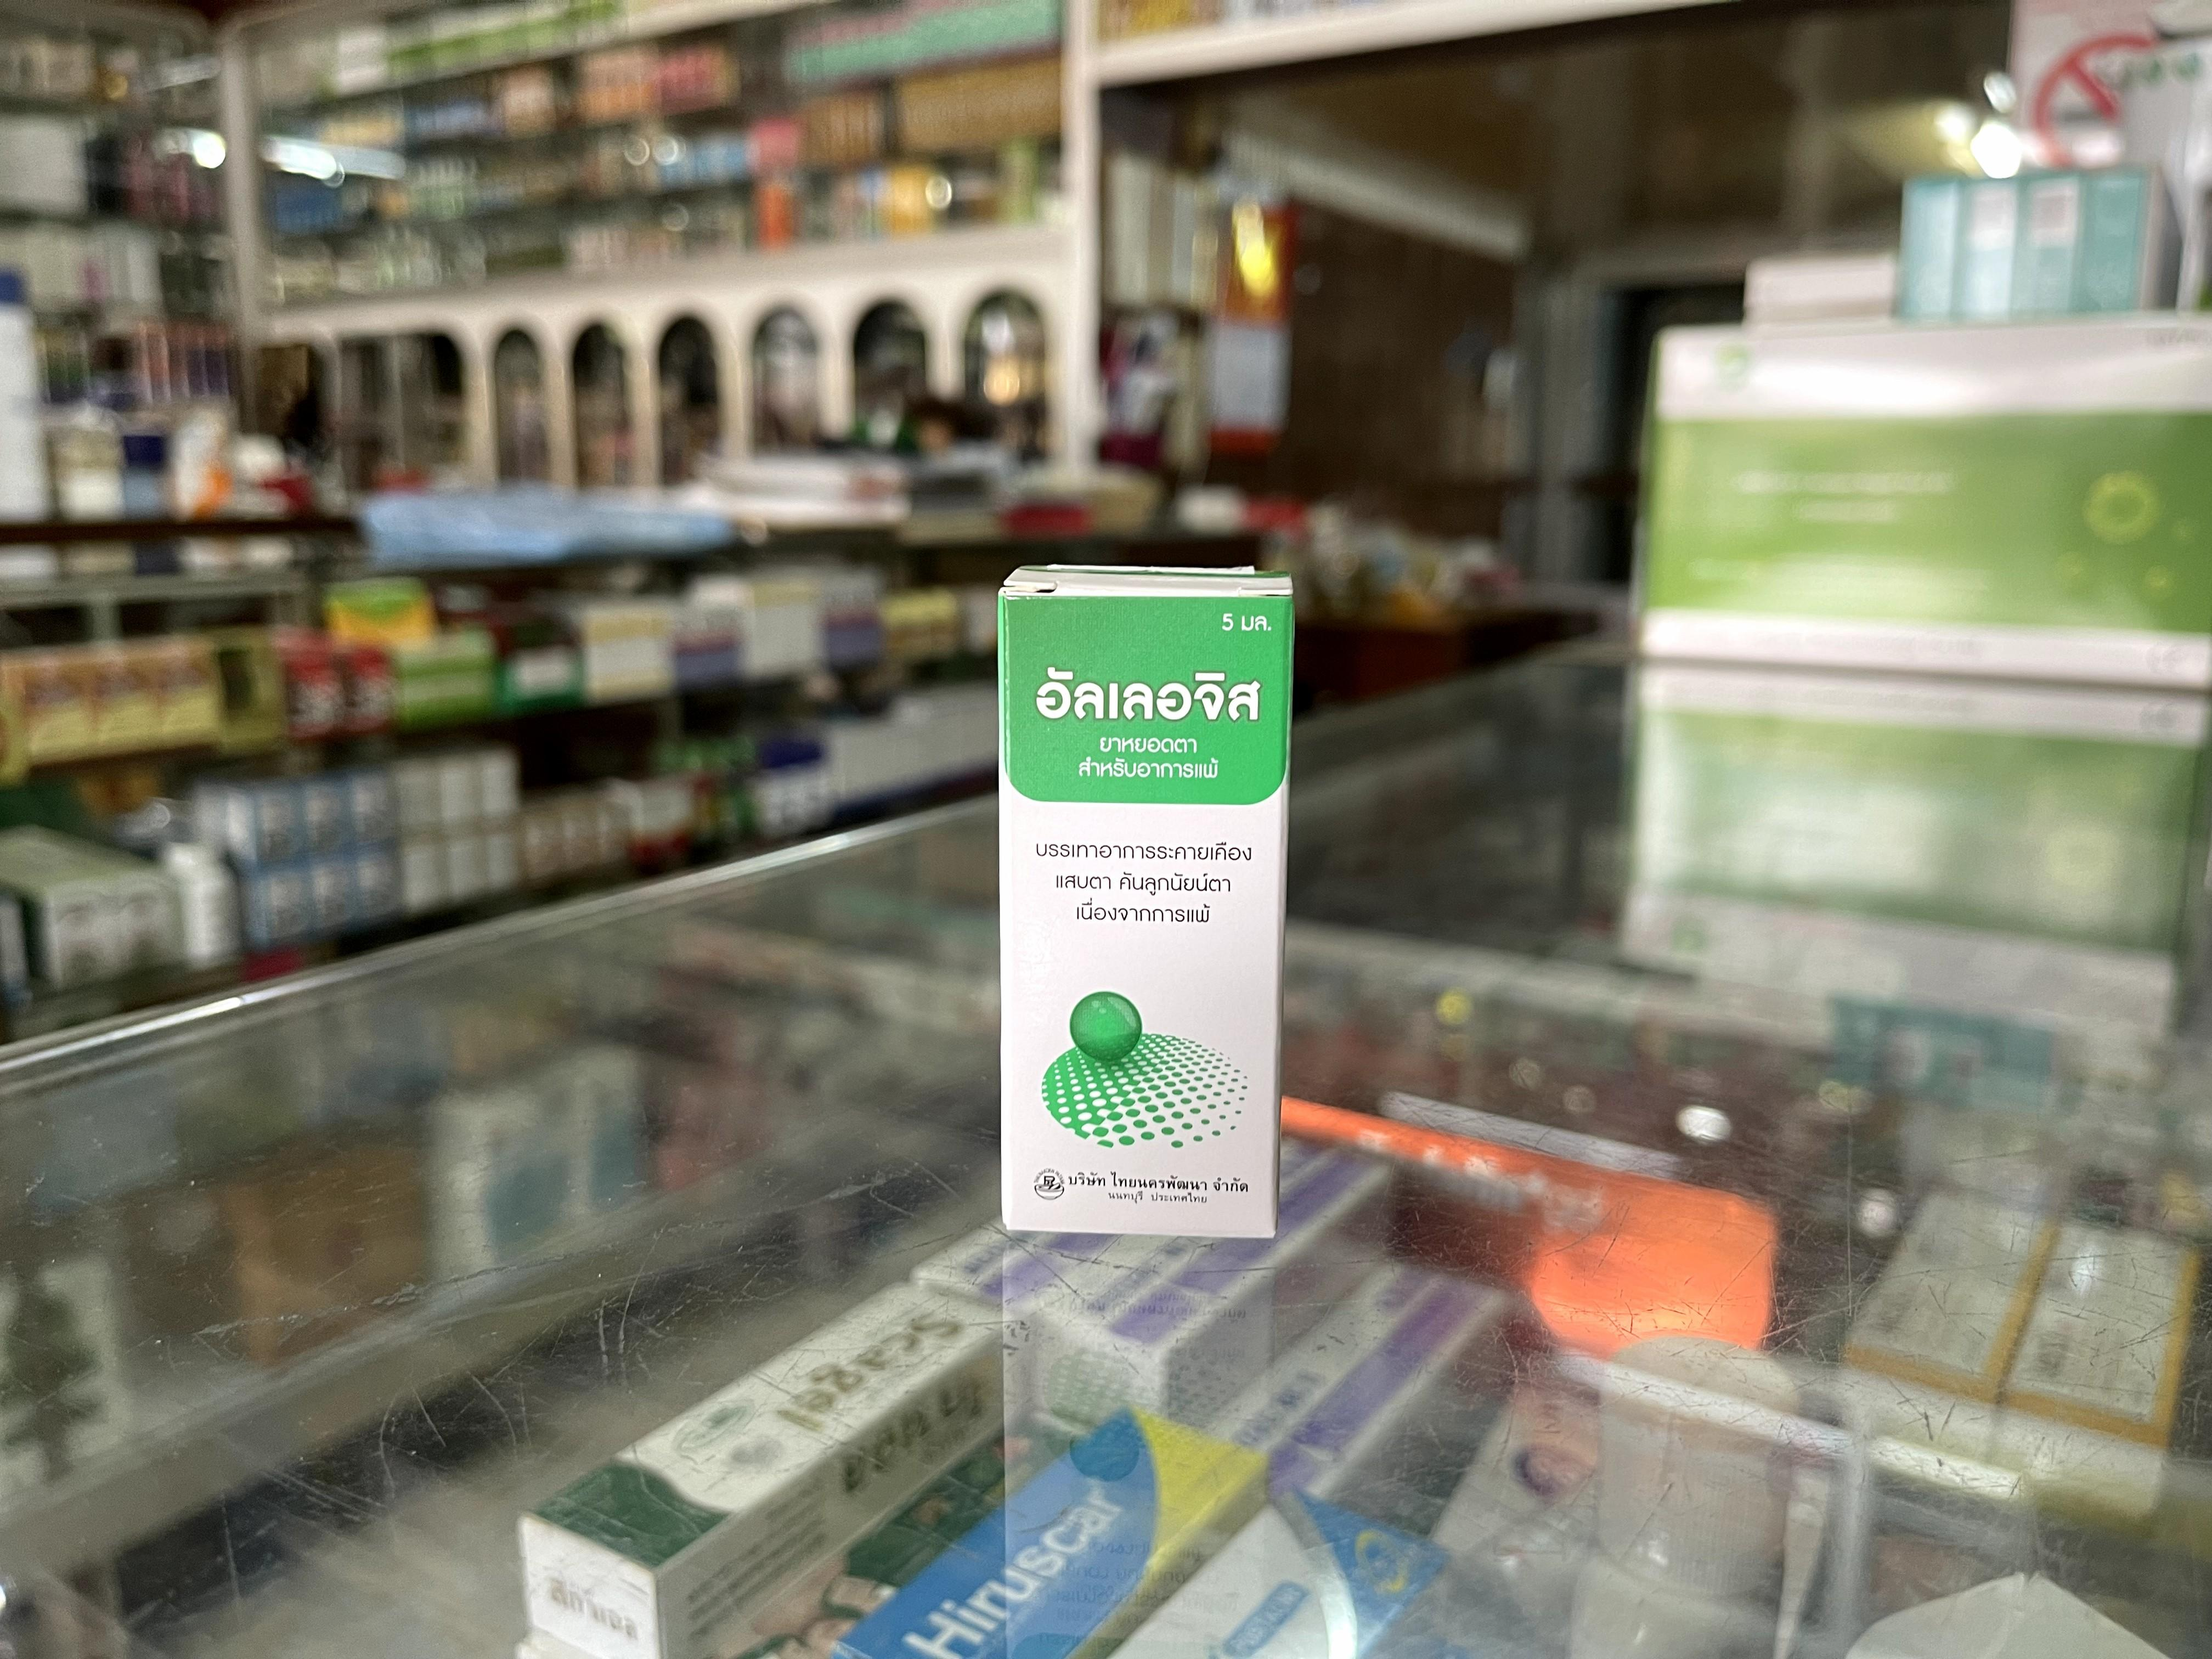Allergis: (996, 561, 1294, 1239)
